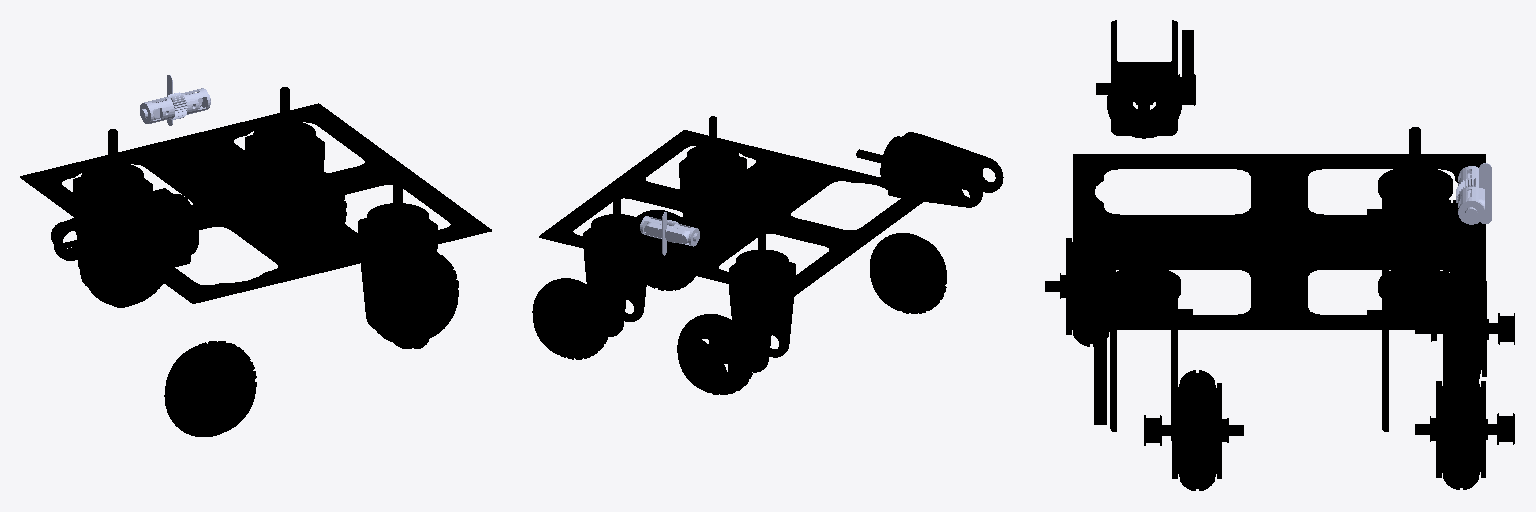
URDF robot description (hermes_robot_description):
<?xml version="1.0" encoding="utf-8"?>
<!-- This URDF was automatically created by SolidWorks to URDF Exporter! Originally created by
Stephen Brawner ([email redacted]) 
     Commit Version: 1.6.0-4-g7f85cfe  Build Version: 1.6.7995.38578
     For more information, please see http://wiki.ros.org/sw_urdf_exporter -->
<robot
  name="hermes_robot_description">
  <link
    name="base_link">
    <inertial>
      <origin
        xyz="-2.10371551824301E-07 -6.02315454494495E-08 0.0435789551996021"
        rpy="0 0 0" />
      <mass
        value="5.7729702362968" />
      <inertia
        ixx="0.0261442345766528"
        ixy="2.82877608896773E-06"
        ixz="7.47544587441788E-10"
        iyy="0.0219026044240062"
        iyz="1.64489628951597E-09"
        izz="0.0462053263639469" />
    </inertial>
    <visual>
      <origin
        xyz="0 0 0"
        rpy="0 0 0" />
      <geometry>
        <mesh
          filename="package://hermes_robot_description/meshes/base_link.STL" />
      </geometry>
      <material
        name="">
        <color
          rgba="0 0 0 1" />
      </material>
    </visual>
    <collision>
      <origin
        xyz="0 0 0"
        rpy="0 0 0" />
      <geometry>
        <mesh
          filename="package://hermes_robot_description/meshes/base_link.STL" />
      </geometry>
    </collision>
  </link>
  <!-- Base Footprint -->
  <joint name="base_footprint_joint" type="fixed">
    <parent link="base_footprint" />
    <child link="base_link" />
    <origin xyz="0 0 0" rpy="0 0 0" />
  </joint>
  <link name="base_footprint">
  </link>
  <!-- End of Base Footprint -->
  <link
    name="Revolve1">
    <inertial>
      <origin
        xyz="-0.0020315725347394 -3.32570022357204E-06 -0.146515511784745"
        rpy="0 0 0" />
      <mass
        value="0.269968020345209" />
      <inertia
        ixx="0.000817081008544825"
        ixy="1.43755452488272E-06"
        ixz="5.94712654176722E-08"
        iyy="0.000962909407158131"
        iyz="1.19067342375234E-06"
        izz="0.000432508914878456" />
    </inertial>
    <visual>
      <origin
        xyz="0 0 0"
        rpy="0 0 0" />
      <geometry>
        <mesh
          filename="package://hermes_robot_description/meshes/Revolve1.STL" />
      </geometry>
      <material
        name="">
        <color
          rgba="0 0 0 1" />
      </material>
    </visual>
    <collision>
      <origin
        xyz="0 0 0"
        rpy="0 0 0" />
      <geometry>
        <mesh
          filename="package://hermes_robot_description/meshes/Revolve1.STL" />
      </geometry>
    </collision>
  </link>
  <joint
    name="Joint_Revolve1"
    type="continuous">
    <origin
      xyz="0.14293 0.16281 0.080887"
      rpy="0 0 0" />
    <parent
      link="base_link" />
    <child
      link="Revolve1" />
    <axis
      xyz="0 0 -1" />
    <limit
      lower="-6.28"
      upper="6.28"
      effort="0"
      velocity="0" />
  </joint>
  <link
    name="Drive1">
    <inertial>
      <origin
        xyz="-0.0595900865520644 0.0010304557549595 0.000120396514376758"
        rpy="0 0 0" />
      <mass
        value="0.968781681350828" />
      <inertia
        ixx="0.00433308692834699"
        ixy="-1.99069564081488E-05"
        ixz="1.18928999633502E-07"
        iyy="0.0023145060676988"
        iyz="-8.1287126219861E-08"
        izz="0.00231372917988357" />
    </inertial>
    <visual>
      <origin
        xyz="0 0 0"
        rpy="0 0 0" />
      <geometry>
        <mesh
          filename="package://hermes_robot_description/meshes/Drive1.STL" />
      </geometry>
      <material
        name="">
        <color
          rgba="0 0 0 1" />
      </material>
    </visual>
    <collision>
      <origin
        xyz="0 0 0"
        rpy="0 0 0" />
      <geometry>
        <mesh
          filename="package://hermes_robot_description/meshes/Drive1.STL" />
      </geometry>
    </collision>
  </link>
  <joint
    name="Joint_Drive1"
    type="continuous">
    <origin
      xyz="0.058211 -0.00088915 -0.23708"
      rpy="0 0 0" />
    <parent
      link="Revolve1" />
    <child
      link="Drive1" />
    <axis
      xyz="-0.99995 0.0098663 0" />
    <limit
      lower="0"
      upper="0"
      effort="0"
      velocity="10" />
  </joint>
  <link
    name="Revolve2">
    <inertial>
      <origin
        xyz="0.00369562604088616 9.94372754585526E-05 -0.14554695452501"
        rpy="0 0 0" />
      <mass
        value="0.278169943270248" />
      <inertia
        ixx="0.000818393002551493"
        ixy="1.09066203211809E-06"
        ixz="-4.70925775867913E-08"
        iyy="0.000964158396336433"
        iyz="8.33032522006963E-08"
        izz="0.000433636015059847" />
    </inertial>
    <visual>
      <origin
        xyz="0 0 0"
        rpy="0 0 0" />
      <geometry>
        <mesh
          filename="package://hermes_robot_description/meshes/Revolve2.STL" />
      </geometry>
      <material
        name="">
        <color
          rgba="0 0 0 1" />
      </material>
    </visual>
    <collision>
      <origin
        xyz="0 0 0"
        rpy="0 0 0" />
      <geometry>
        <mesh
          filename="package://hermes_robot_description/meshes/Revolve2.STL" />
      </geometry>
    </collision>
  </link>
  <joint
    name="Joint_Revolve2"
    type="continuous">
    <origin
      xyz="0.14237 -0.16281 0.080887"
      rpy="0 0 0" />
    <parent
      link="base_link" />
    <child
      link="Revolve2" />
    <axis
      xyz="0 0 -1" />
    <limit
      lower="-6.28"
      upper="6.28"
      effort="0"
      velocity="0" />
  </joint>
  <link
    name="Drive2">
    <inertial>
      <origin
        xyz="-0.0604042669261472 1.00490558338773E-05 0.000120396499160874"
        rpy="0 0 0" />
      <mass
        value="0.968781685280355" />
      <inertia
        ixx="0.00433317009545422"
        ixy="-1.5113061042615E-05"
        ixz="-1.19121259096089E-07"
        iyy="0.00231442290382322"
        iyz="8.10046961048803E-08"
        izz="0.00231372918105276" />
    </inertial>
    <visual>
      <origin
        xyz="0 0 0"
        rpy="0 0 0" />
      <geometry>
        <mesh
          filename="package://hermes_robot_description/meshes/Drive2.STL" />
      </geometry>
      <material
        name="">
        <color
          rgba="0 0 0 1" />
      </material>
    </visual>
    <collision>
      <origin
        xyz="0 0 0"
        rpy="0 0 0" />
      <geometry>
        <mesh
          filename="package://hermes_robot_description/meshes/Drive2.STL" />
      </geometry>
    </collision>
  </link>
  <joint
    name="Joint_Drive2"
    type="continuous">
    <origin
      xyz="0.061783 -0.00014808 -0.23708"
      rpy="0 0 0" />
    <parent
      link="Revolve2" />
    <child
      link="Drive2" />
    <axis
      xyz="0.99997 -0.0074916 0" />
    <limit
      lower="0"
      upper="0"
      effort="0"
      velocity="10" />
  </joint>
  <link
    name="Revolve3">
    <inertial>
      <origin
        xyz="-0.145078348740284 0.000298251578032982 -0.00416216736019684"
        rpy="0 0 0" />
      <mass
        value="0.282156111545984" />
      <inertia
        ixx="0.000434125726646059"
        ixy="2.26740392878552E-06"
        ixz="2.46147953844453E-08"
        iyy="0.000964214819932214"
        iyz="-1.47963647126562E-06"
        izz="0.000818912285874929" />
    </inertial>
    <visual>
      <origin
        xyz="0 0 0"
        rpy="0 0 0" />
      <geometry>
        <mesh
          filename="package://hermes_robot_description/meshes/Revolve3.STL" />
      </geometry>
      <material
        name="">
        <color
          rgba="0 0 0 1" />
      </material>
    </visual>
    <collision>
      <origin
        xyz="0 0 0"
        rpy="0 0 0" />
      <geometry>
        <mesh
          filename="package://hermes_robot_description/meshes/Revolve3.STL" />
      </geometry>
    </collision>
  </link>
  <joint
    name="Joint_Revolve3"
    type="continuous">
    <origin
      xyz="-0.14293 -0.16281 0.080887"
      rpy="3.1416 -1.5708 0" />
    <parent
      link="base_link" />
    <child
      link="Revolve3" />
    <axis
      xyz="-1 0 0" />
    <limit
      lower="-6.28"
      upper="6.28"
      effort="0"
      velocity="0" />
  </joint>
  <link
    name="Drive3">
    <inertial>
      <origin
        xyz="0.000120396516468307 0.000173138811222162 0.0604040196046097"
        rpy="0 0 0" />
      <mass
        value="0.968781680813743" />
      <inertia
        ixx="0.00231372917972381"
        ixy="8.13257654302086E-08"
        ixz="1.18902620179094E-07"
        iyy="0.00231451922820414"
        iyz="2.05633802827397E-05"
        izz="0.00433307376740016" />
    </inertial>
    <visual>
      <origin
        xyz="0 0 0"
        rpy="0 0 0" />
      <geometry>
        <mesh
          filename="package://hermes_robot_description/meshes/Drive3.STL" />
      </geometry>
      <material
        name="">
        <color
          rgba="0 0 0 1" />
      </material>
    </visual>
    <collision>
      <origin
        xyz="0 0 0"
        rpy="0 0 0" />
      <geometry>
        <mesh
          filename="package://hermes_robot_description/meshes/Drive3.STL" />
      </geometry>
    </collision>
  </link>
  <joint
    name="Joint_Drive3"
    type="continuous">
    <origin
      xyz="-0.23708 -0.0003149 -0.061783"
      rpy="0 0 0" />
    <parent
      link="Revolve3" />
    <child
      link="Drive3" />
    <axis
      xyz="0 -0.010191 -0.99995" />
    <limit
      lower="0"
      upper="0"
      effort="0"
      velocity="10" />
  </joint>
  <link
    name="Revolve4">
    <inertial>
      <origin
        xyz="-0.00369447983778581 -5.57141729282673E-05 -0.145545341192344"
        rpy="0 0 0" />
      <mass
        value="0.278169949354846" />
      <inertia
        ixx="0.000818395728366805"
        ixy="-1.00119769955693E-06"
        ixz="4.24905936671552E-08"
        iyy="0.000964130017408439"
        iyz="8.97615065711788E-07"
        izz="0.000433670847908861" />
    </inertial>
    <visual>
      <origin
        xyz="0 0 0"
        rpy="0 0 0" />
      <geometry>
        <mesh
          filename="package://hermes_robot_description/meshes/Revolve4.STL" />
      </geometry>
      <material
        name="">
        <color
          rgba="0 0 0 1" />
      </material>
    </visual>
    <collision>
      <origin
        xyz="0 0 0"
        rpy="0 0 0" />
      <geometry>
        <mesh
          filename="package://hermes_robot_description/meshes/Revolve4.STL" />
      </geometry>
    </collision>
  </link>
  <joint
    name="Joint_Revolve4"
    type="continuous">
    <origin
      xyz="-0.14237 0.16281 0.080887"
      rpy="0 0 0" />
    <parent
      link="base_link" />
    <child
      link="Revolve4" />
    <axis
      xyz="0 0 -1" />
    <limit
      lower="-6.28"
      upper="6.28"
      effort="0"
      velocity="0" />
  </joint>
  <link
    name="Drive4">
    <inertial>
      <origin
        xyz="-0.0622112205431669 4.79255844373916E-06 0.000114732036940984"
        rpy="0 0 0" />
      <mass
        value="0.850687527986548" />
      <inertia
        ixx="0.00415798393864943"
        ixy="1.31982957892877E-05"
        ixz="7.75917649710273E-08"
        iyy="0.00221684368675788"
        iyz="-2.1169487140673E-07"
        izz="0.00221655869094813" />
    </inertial>
    <visual>
      <origin
        xyz="0 0 0"
        rpy="0 0 0" />
      <geometry>
        <mesh
          filename="package://hermes_robot_description/meshes/Drive4.STL" />
      </geometry>
      <material
        name="">
        <color
          rgba="0 0 0 1" />
      </material>
    </visual>
    <collision>
      <origin
        xyz="0 0 0"
        rpy="0 0 0" />
      <geometry>
        <mesh
          filename="package://hermes_robot_description/meshes/Drive4.STL" />
      </geometry>
    </collision>
  </link>
  <joint
    name="Joint_Drive4"
    type="continuous">
    <origin
      xyz="0.058218 8.492E-05 -0.23708"
      rpy="0 0 0" />
    <parent
      link="Revolve4" />
    <child
      link="Drive4" />
    <axis
      xyz="-0.99998 -0.0068655 0" />
    <limit
      lower="0"
      upper="0"
      effort="0"
      velocity="10" />
  </joint>
  <link
    name="Camera_pivot">
    <inertial>
      <origin
        xyz="-0.0555938677541015 -0.000242330848978831 -0.00329123732557138"
        rpy="0 0 0" />
      <mass
        value="1.28786623127725" />
      <inertia
        ixx="0.000117585603142808"
        ixy="7.73537803843833E-07"
        ixz="1.1315000572726E-05"
        iyy="0.00079491757869897"
        iyz="-6.69201512905299E-07"
        izz="0.000787867424546528" />
    </inertial>
    <visual>
      <origin
        xyz="0 0 0"
        rpy="0 0 0" />
      <geometry>
        <mesh
          filename="package://hermes_robot_description/meshes/Camera_pivot.STL" />
      </geometry>
      <material
        name="">
        <color
          rgba="0.792156862745098 0.819607843137255 0.933333333333333 1" />
      </material>
    </visual>
    <collision>
      <origin
        xyz="0 0 0"
        rpy="0 0 0" />
      <geometry>
        <mesh
          filename="package://hermes_robot_description/meshes/Camera_pivot.STL" />
      </geometry>
    </collision>
  </link>
  <joint
    name="Joint_Camera_pivot"
    type="revolute">
    <origin
      xyz="0.05435 0.23015 0.06"
      rpy="1.5708 0 0" />
    <parent
      link="base_link" />
    <child
      link="Camera_pivot" />
    <axis
      xyz="1 0 0" />
    <limit
      lower="0"
      upper="0"
      effort="0"
      velocity="0" />
  </joint>
  <!-- Camera Vision -->
  <link
    name="CameraVision">
    <inertial>
      <origin
        xyz="-3.83807569059869E-17 -6.77896212537346E-05 -0.000495383252896442"
        rpy="0 0 0" />
      <mass
        value="0.00122306679751053" />
      <inertia
        ixx="2.45260777746173E-08"
        ixy="1.49835825799552E-22"
        ixz="-7.43449114089117E-22"
        iyy="6.15023324061755E-07"
        iyz="3.26714169017072E-09"
        izz="6.38451387870187E-07" />
    </inertial>
    <visual>
      <origin
        xyz="0 0 0"
        rpy="0 0 0" />
      <geometry>
        <mesh
          filename="package://hermes_robot_description/meshes/CameraVision.STL" />
      </geometry>
      <material
        name="">
        <color
          rgba="0.792156862745098 0.819607843137255 0.933333333333333 1" />
      </material>
    </visual>
    <collision>
      <origin
        xyz="0 0 0"
        rpy="0 0 0" />
      <geometry>
        <mesh
          filename="package://hermes_robot_description/meshes/CameraVision.STL" />
      </geometry>
    </collision>
  </link>
  <joint
    name="CameraVisionJoint"
    type="fixed">
    <origin
      xyz="-0.0545 0.002307 -0.016859"
      rpy="3.1416 0 3.1416" />
    <parent
      link="Camera_pivot" />
    <child
      link="CameraVision" />
    <axis
      xyz="0 0 0" />
  </joint>
</robot>

--- Render facts (derived) ---
The picture shows the robot from 3 angles, left to right: view 1: azimuth 30°, elevation 25°; view 2: azimuth 150°, elevation 25°; view 3: azimuth 270°, elevation 25°; orthographic projection.
Model hermes_robot_description with 12 links and 11 joints (1 revolute, 8 continuous, 2 fixed), rooted at base_footprint, posed every joint at zero.
Visible links, largest first — view 1: base_link, Revolve3, Revolve2, Drive3, Revolve4, Revolve1, Drive2, Camera_pivot, Drive4; view 2: base_link, Revolve3, Revolve4, Revolve1, Drive3, Drive1, Drive4, Revolve2, Drive2, Camera_pivot; view 3: base_link, Revolve3, Drive1, Drive2, Revolve2, Revolve1, Revolve4, Drive4, Drive3, Camera_pivot, CameraVision.
Link boxes in pixels (box(x1,y1,x2,y2)): base_link: box(20, 103, 491, 303); Revolve3: box(51, 188, 227, 278); Revolve2: box(358, 170, 437, 348); Drive3: box(164, 341, 256, 436); Revolve4: box(73, 129, 152, 307); Revolve1: box(245, 87, 324, 205); Drive2: box(376, 252, 458, 341); Camera_pivot: box(140, 88, 210, 123); Drive4: box(89, 271, 163, 305); base_link: box(539, 130, 922, 298); Revolve3: box(856, 132, 1003, 207); Revolve4: box(729, 222, 795, 372); Revolve1: box(583, 186, 650, 336); Drive3: box(870, 233, 946, 313); Drive1: box(532, 278, 608, 359); Drive4: box(677, 314, 753, 394); Revolve2: box(679, 116, 746, 215); Drive2: box(636, 210, 695, 290); Camera_pivot: box(640, 216, 699, 246); base_link: box(1073, 154, 1485, 329); Revolve3: box(1096, 20, 1195, 138); Drive1: box(1415, 369, 1514, 489); Drive2: box(1144, 370, 1243, 490); Revolve2: box(1093, 228, 1192, 431); Revolve1: box(1367, 228, 1466, 431); Revolve4: box(1367, 127, 1455, 274); Drive4: box(1415, 272, 1514, 378); Drive3: box(1045, 238, 1115, 346); Camera_pivot: box(1456, 166, 1484, 224); CameraVision: box(1479, 163, 1491, 223).
Bounding box of the posed robot: 0.6849 × 0.5654 × 0.3577 m (x, y, z).
11 mesh visuals loaded from 11 distinct referenced files (11 binary STL).
